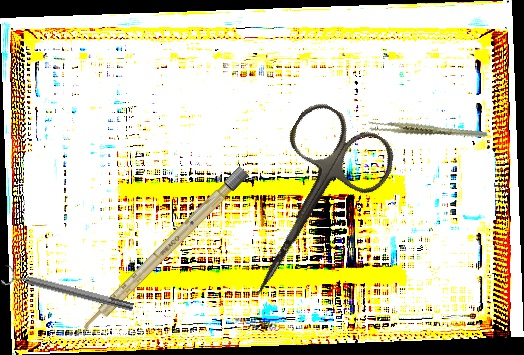Fixation Ring: (0, 263, 136, 319)
Iris Scissors: (209, 95, 404, 322)
Scalpel Handle: (76, 165, 250, 339)
Tissue Forceps: (366, 101, 489, 160)
